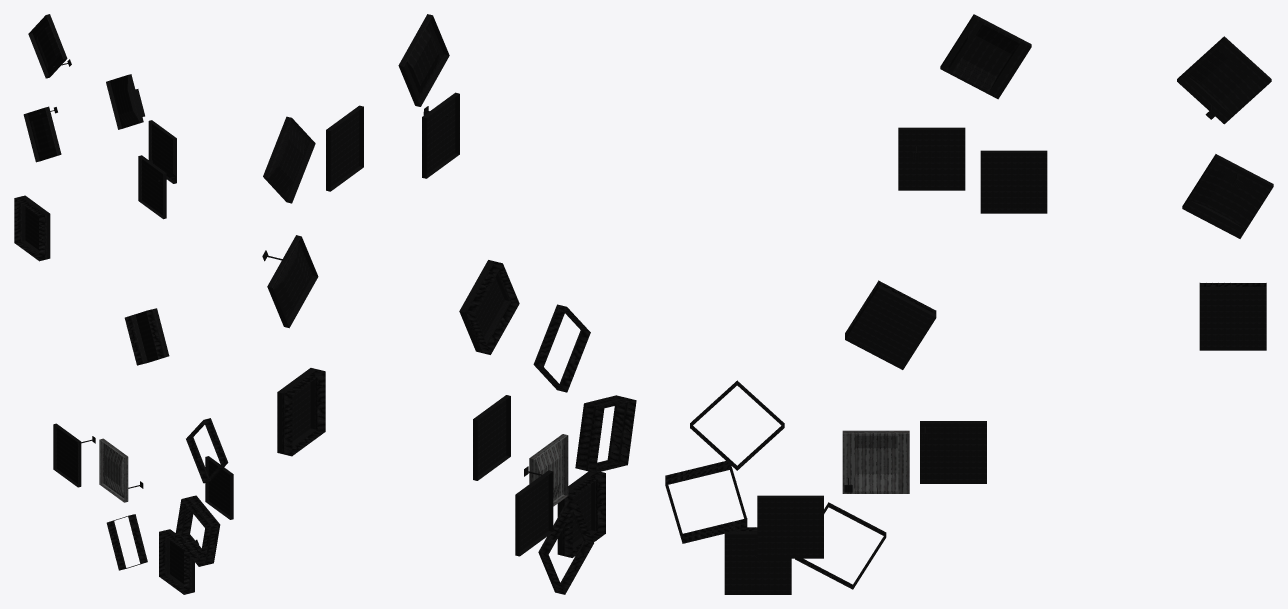
The model's file is Fence.fbx.
The picture shows the model from 3 angles, left to right: view 1: azimuth 30°, elevation 25°; view 2: azimuth 150°, elevation 25°; view 3: azimuth 270°, elevation 25°; orthographic projection. The views are drawn at different scales.
Visible parts, largest first — view 1: Fence; view 2: Fence; view 3: Fence.
Boxes of the visible parts, <box> form: Fence: <box>14,14,233,594</box>; Fence: <box>262,14,636,594</box>; Fence: <box>665,14,1273,594</box>.
Bounding box in the file's own units: 17660 × 62551 × 56929.
2 materials, 2 textured.
